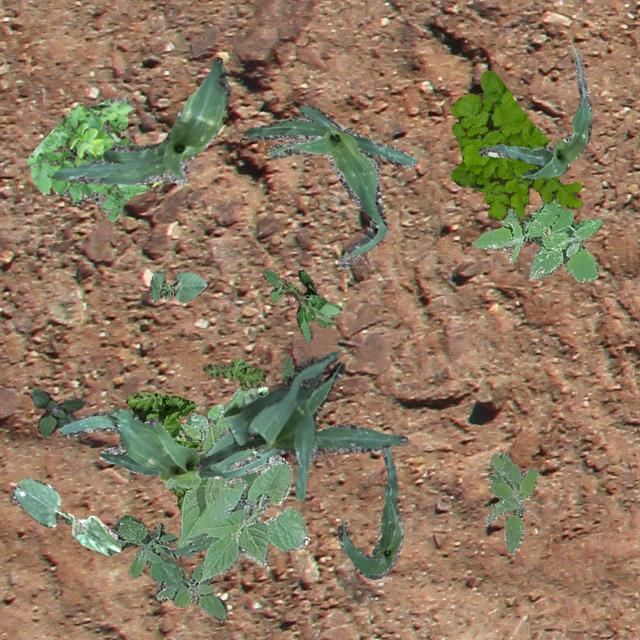crop: (195, 350, 408, 500), (241, 104, 415, 268), (164, 384, 308, 582), (54, 55, 230, 184), (58, 392, 284, 480), (478, 48, 590, 180), (336, 446, 402, 578), (10, 478, 120, 556), (148, 270, 206, 302)
weed: (110, 468, 260, 620), (448, 68, 582, 222), (28, 96, 158, 220), (470, 198, 600, 282), (125, 390, 202, 514), (172, 386, 268, 456), (260, 268, 340, 342), (484, 452, 536, 554), (30, 388, 84, 436), (202, 358, 264, 389), (270, 354, 294, 392)
